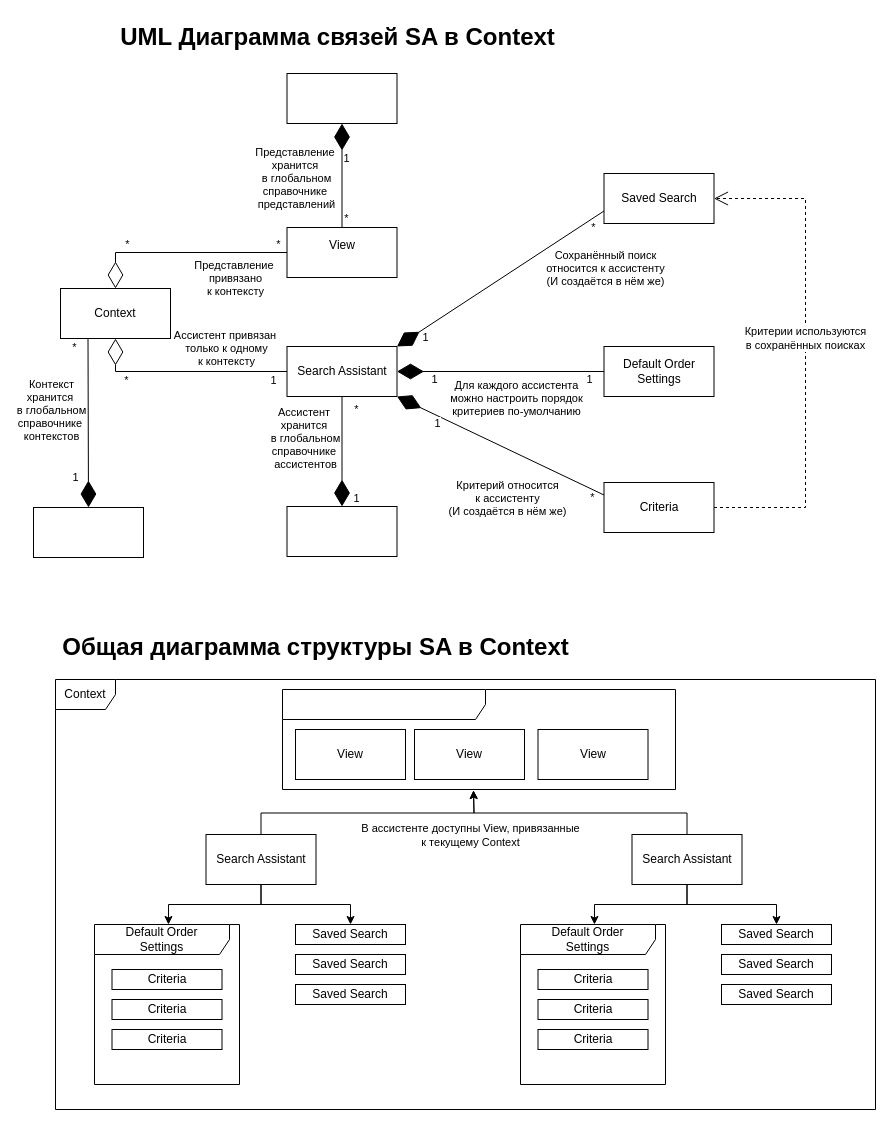
Some shapes in this 893 by 1127 pixel diagram are drawn without their labels. The shapes that lost their labels are listed below. From the top down, each one's centre as x and y in pixels, then its label:
point 341,98: View Registry
point 88,532: Context Registry
point 341,531: Search Assistant Registry
point 479,739: Views, привязанные к Context
